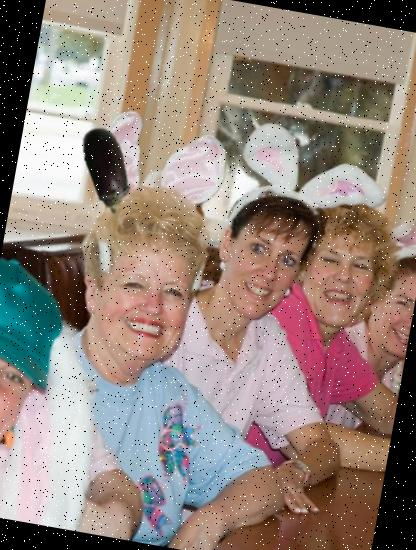Eggplant: (56, 118, 160, 222)
